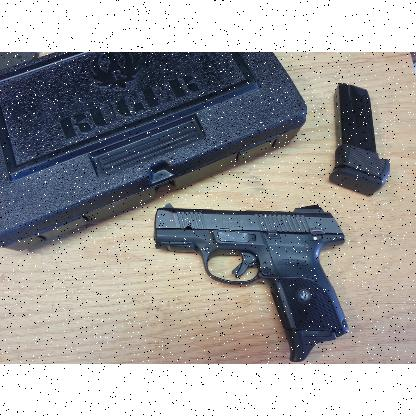gun: (154, 203, 348, 362)
